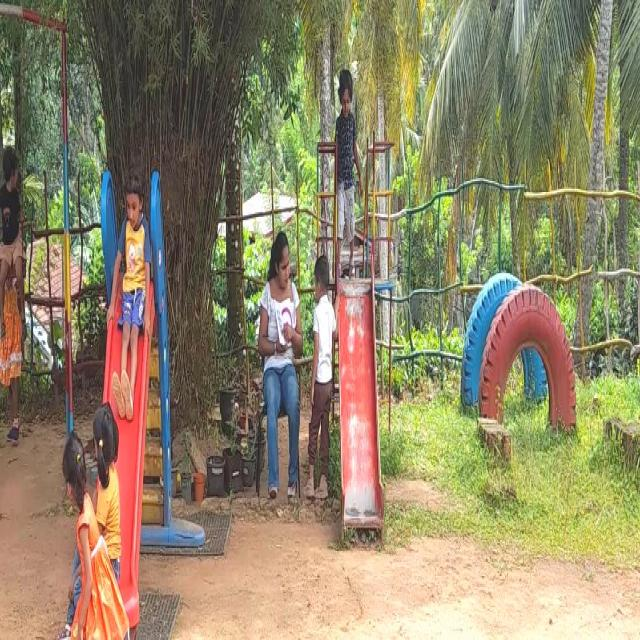adult: (262, 222, 303, 494)
child: (109, 155, 150, 412), (305, 259, 330, 501), (0, 140, 32, 327), (334, 74, 363, 276), (61, 434, 88, 640), (97, 399, 123, 567)
